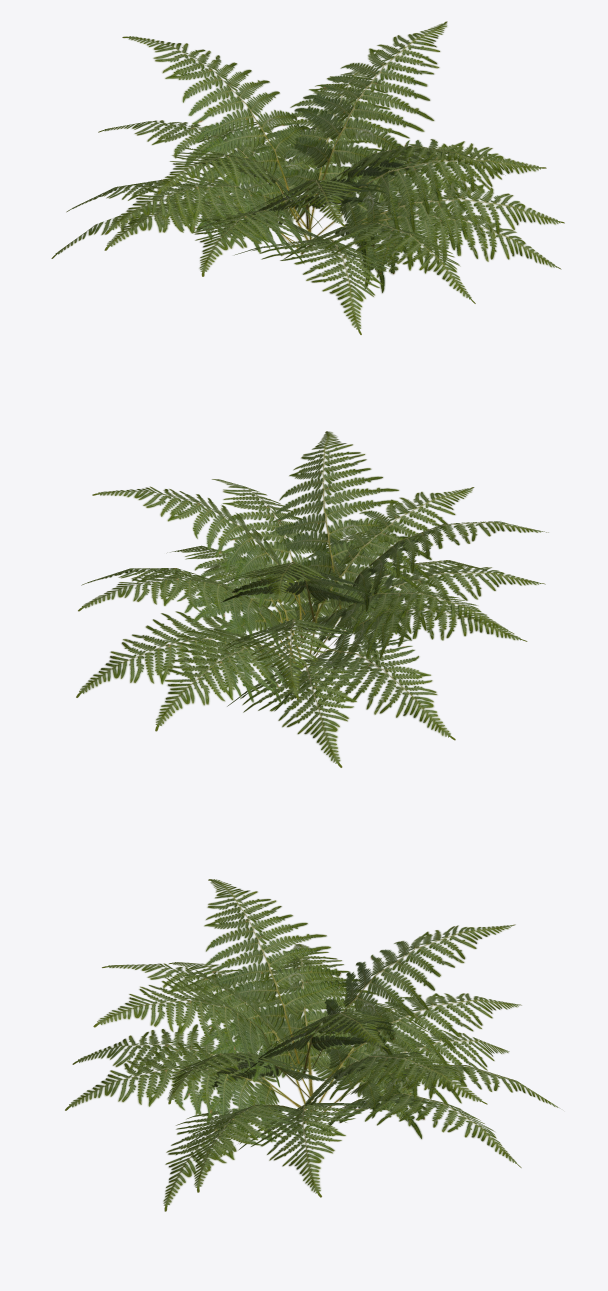
File: fern.glb
3 views of the same model, one above another, from view 1: azimuth 30°, elevation 25°; view 2: azimuth 150°, elevation 25°; view 3: azimuth 270°, elevation 25° (orthographic). The views are drawn at different scales.
Parts seen in each view (by area): view 1: Plane.002; view 2: Plane.002; view 3: Plane.002.
Boxes of the visible parts, bbox=[...] form: Plane.002: bbox=[51, 21, 564, 334]; Plane.002: bbox=[76, 431, 548, 767]; Plane.002: bbox=[65, 879, 560, 1211].
Bounding box in the file's own units: 466 × 203 × 461.
1 material, 1 textured.
